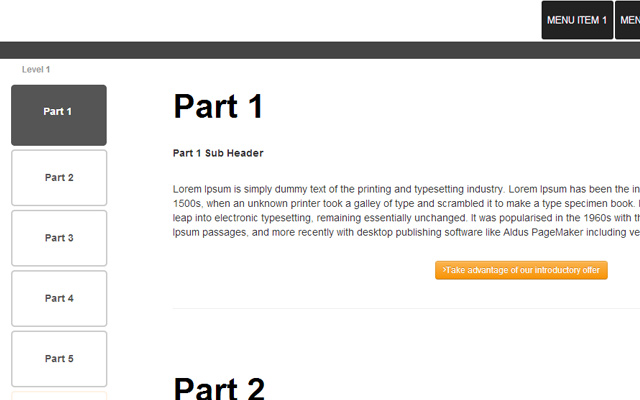button: (429, 258, 611, 283)
